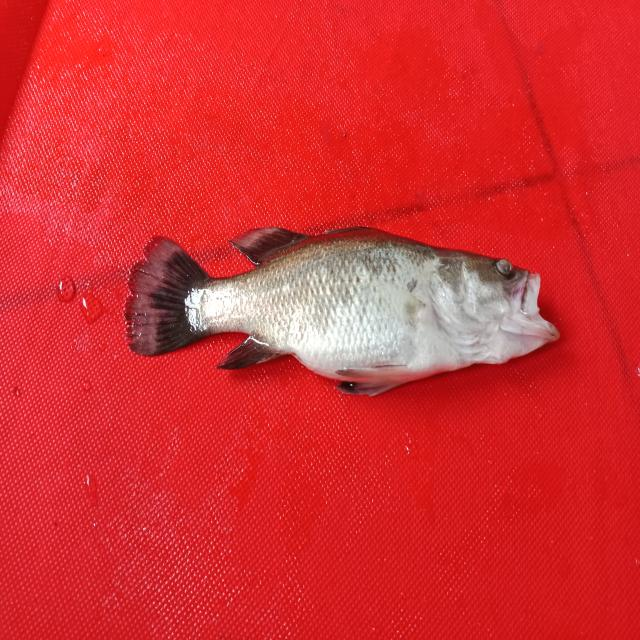ikan: (117, 200, 570, 406)
